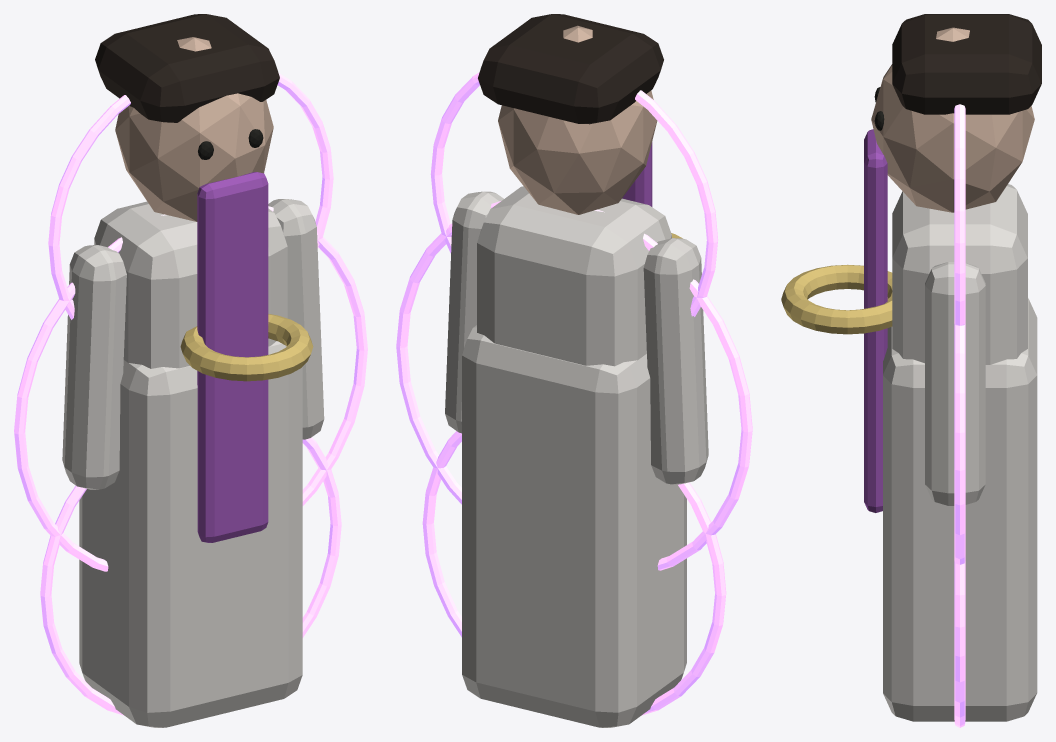
File: vivian_4181.glb
3 views of the same model, side by side, from view 1: azimuth 30°, elevation 25°; view 2: azimuth 150°, elevation 25°; view 3: azimuth 270°, elevation 25° (orthographic).
Parts seen in each view (by area): view 1: Layered robe, Purple healer stole, Fitted torso, Hair, Detailed arm, Head, Shimmering protective aura.001, Detailed arm.001, Shimmering protective aura, Shimmering protective aura.002, Life holy symbol; view 2: Layered robe, Fitted torso, Hair, Detailed arm, Head, Shimmering protective aura.001, Detailed arm.001, Shimmering protective aura, Shimmering protective aura.002, Purple healer stole; view 3: Layered robe, Fitted torso, Hair, Head, Detailed arm.001, Purple healer stole, Life holy symbol, Shimmering protective aura.001, Shimmering protective aura.002, Shimmering protective aura.
Boxes of the visible parts, x1,y1,x2,y2 form: Layered robe: (79,341,302,727); Purple healer stole: (197,172,268,542); Fitted torso: (94,201,287,368); Hair: (95,14,279,122); Detailed arm: (62,245,126,489); Head: (115,37,273,221); Shimmering protective aura.001: (14,206,367,571); Detailed arm.001: (268,199,324,439); Shimmering protective aura: (40,437,341,715); Shimmering protective aura.002: (48,73,333,319); Life holy symbol: (180,314,313,381); Layered robe: (462,325,686,727); Fitted torso: (477,186,671,366); Hair: (478,14,663,124); Detailed arm: (643,238,708,484); Head: (498,25,657,214); Shimmering protective aura.001: (396,201,752,570); Detailed arm.001: (445,191,503,433); Shimmering protective aura: (422,431,726,715); Shimmering protective aura.002: (430,72,718,316); Purple healer stole: (622,142,652,206); Layered robe: (883,298,1037,721); Fitted torso: (892,184,1027,364); Hair: (892,14,1041,114); Head: (871,27,1034,212); Detailed arm.001: (925,262,985,505); Purple healer stole: (864,129,887,512); Life holy symbol: (781,264,892,334); Shimmering protective aura.001: (954,323,965,564); Shimmering protective aura.002: (954,104,965,325); Shimmering protective aura: (954,561,965,727).
Size of the model in its own units: 1.75 by 3.23 by 1.12.
